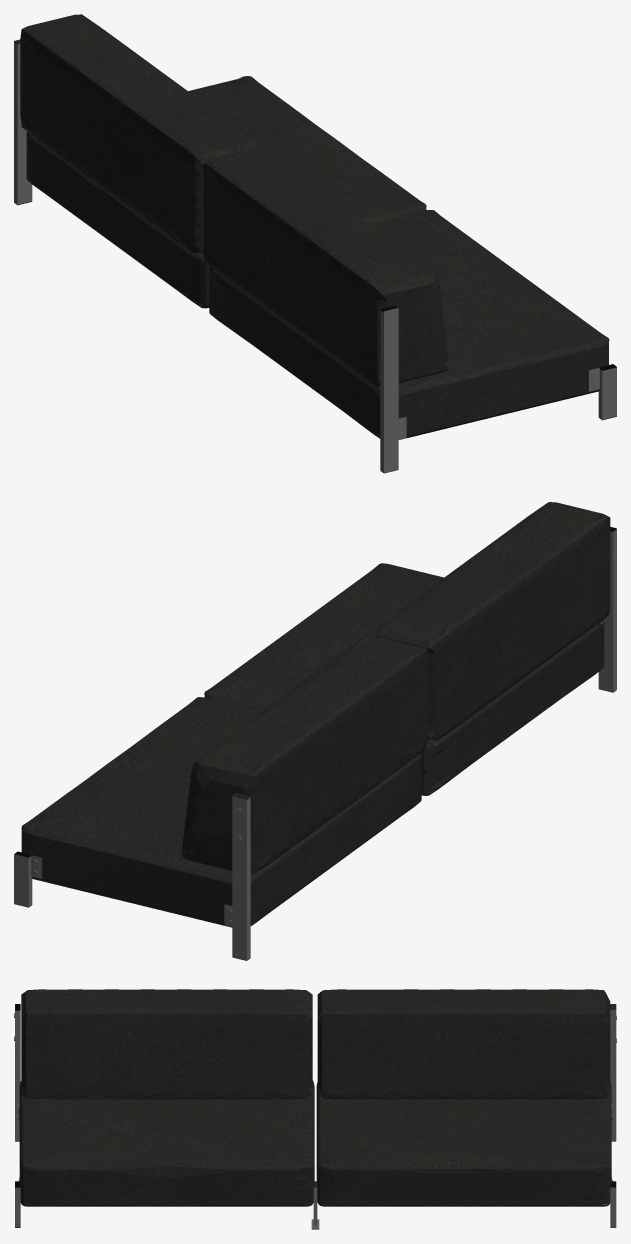
File: Bench1.fbx
The picture shows the model from 3 angles, top to bottom: view 1: azimuth 30°, elevation 25°; view 2: azimuth 150°, elevation 25°; view 3: azimuth 270°, elevation 25°; orthographic projection. The views are drawn at different scales.
Parts seen in each view (by area): view 1: Bench1; view 2: Bench1; view 3: Bench1.
Part boxes in pixels (<box>): Bench1: <box>14,14,616,473</box>; Bench1: <box>14,502,616,960</box>; Bench1: <box>14,989,616,1229</box>.
Bounding box in the file's own units: 2342 × 1710 × 6334.
Materials: 1 (1 with a texture image).
